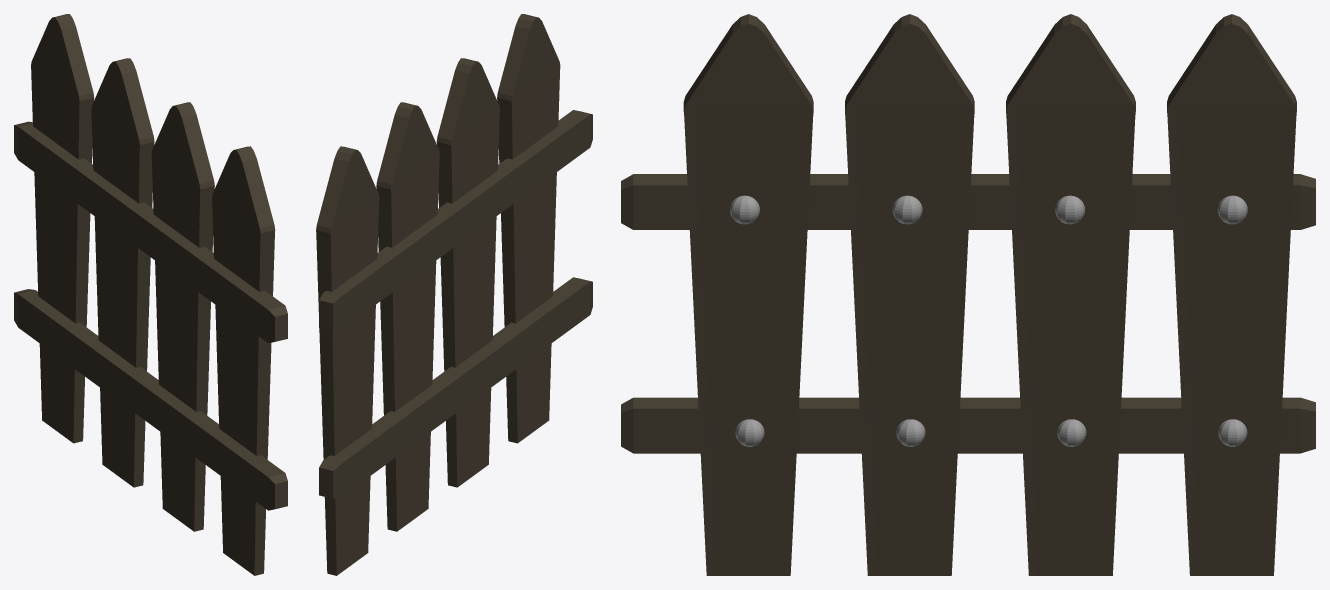
File: Barrière.fbx
3 renders of one model, left to right at view 1: azimuth 30°, elevation 25°; view 2: azimuth 150°, elevation 25°; view 3: azimuth 270°, elevation 25°, orthographic. The views are drawn at different scales.
Parts seen in each view (by area): view 1: BARRI7RE; view 2: BARRI7RE; view 3: BARRI7RE.
Part boxes in pixels (left/top/right/bottom): BARRI7RE: left=14, top=14, right=287, bottom=575; BARRI7RE: left=316, top=14, right=592, bottom=575; BARRI7RE: left=621, top=14, right=1315, bottom=575.
Size of the model in its own units: 28.28 by 338 by 384.
